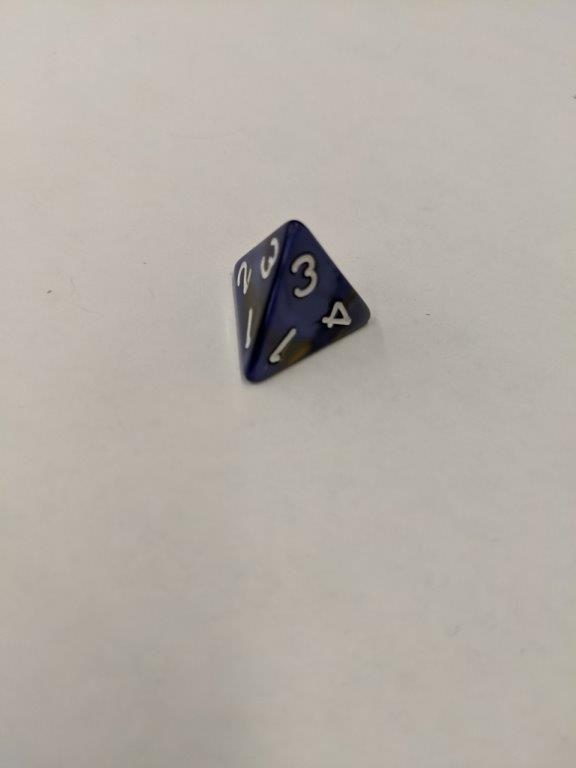d4-3: (231, 219, 375, 390)
